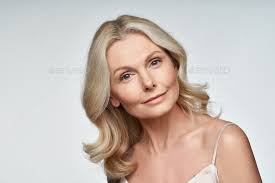s.white: (151, 69, 176, 96)
